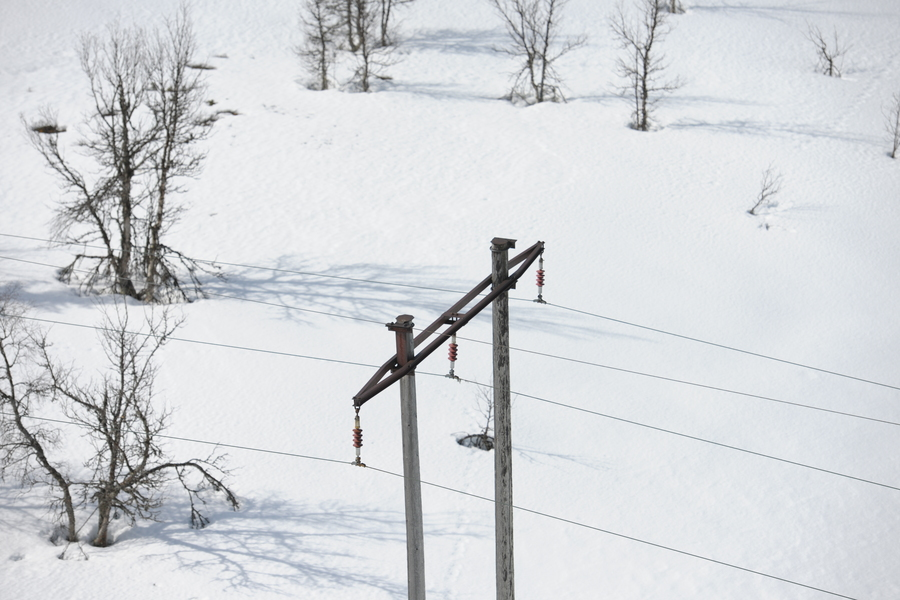crossarm: (320, 230, 568, 415)
insulator: (340, 405, 381, 476)
